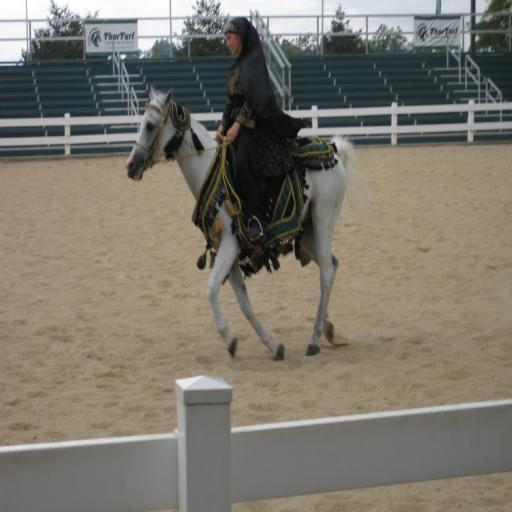horse: (125, 84, 375, 360)
